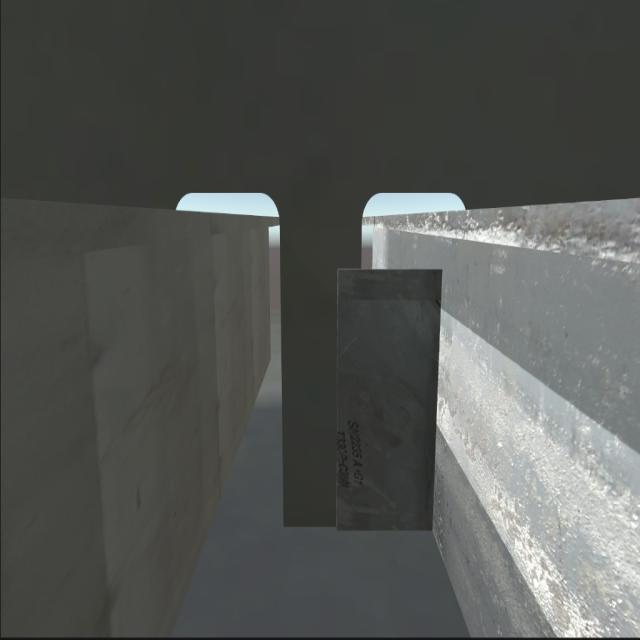fillet_yong_jeop_jang: (280, 512, 436, 546)
longi_yong_jeop_jang: (422, 265, 450, 532)
plate_CP01: (333, 265, 435, 528)
